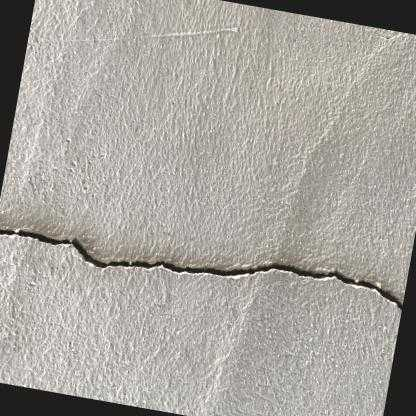crack: (0, 228, 402, 311)
